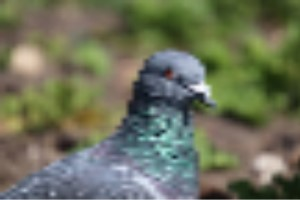pigeon: (101, 44, 229, 199)
